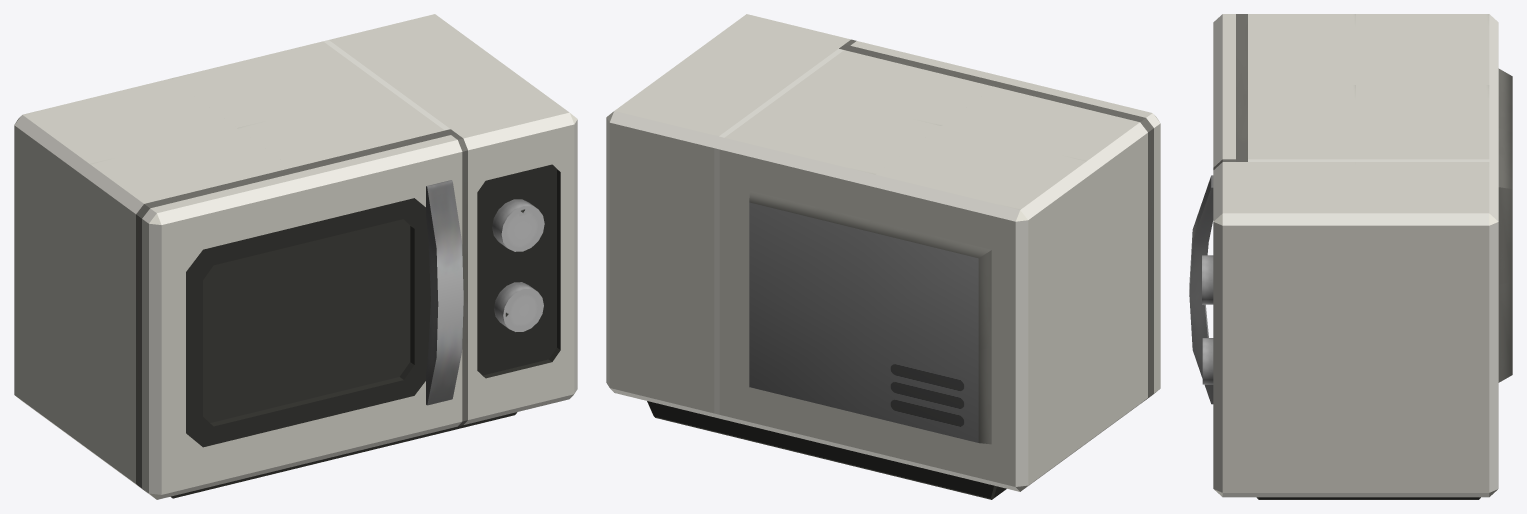
Rendered from Range.fbx.
3 renders of one model, left to right at view 1: azimuth 30°, elevation 25°; view 2: azimuth 150°, elevation 25°; view 3: azimuth 270°, elevation 25°, orthographic.
Parts seen in each view (by area): view 1: Hontai1, Totte, Daiyaru, Daiyaru2, bottom; view 2: Hontai1, bottom; view 3: Hontai1, Totte, bottom, Daiyaru, Daiyaru2.
Boxes of the visible parts, x1,y1,x2,y2 form: Hontai1: (14, 14, 577, 499); Totte: (426, 180, 463, 405); Daiyaru: (492, 199, 544, 251); Daiyaru2: (494, 282, 543, 331); bottom: (170, 412, 517, 498); Hontai1: (606, 14, 1160, 491); bottom: (647, 401, 1006, 499); Hontai1: (1213, 14, 1512, 497); Totte: (1189, 175, 1213, 404); bottom: (1256, 497, 1480, 499); Daiyaru: (1202, 255, 1213, 304); Daiyaru2: (1202, 338, 1213, 384).
Size of the model in its own units: 47.25 by 32.32 by 31.13.
